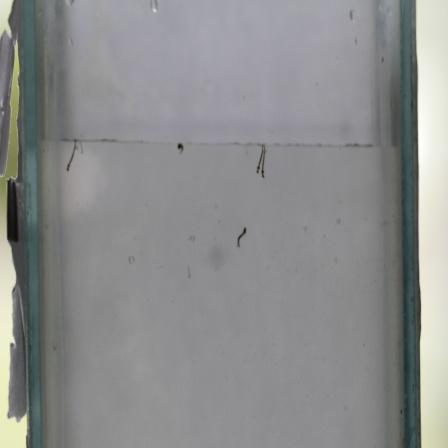Jentik-Nyamuk: (253, 143, 268, 180), (64, 138, 78, 173), (233, 222, 249, 249), (174, 139, 187, 157)
